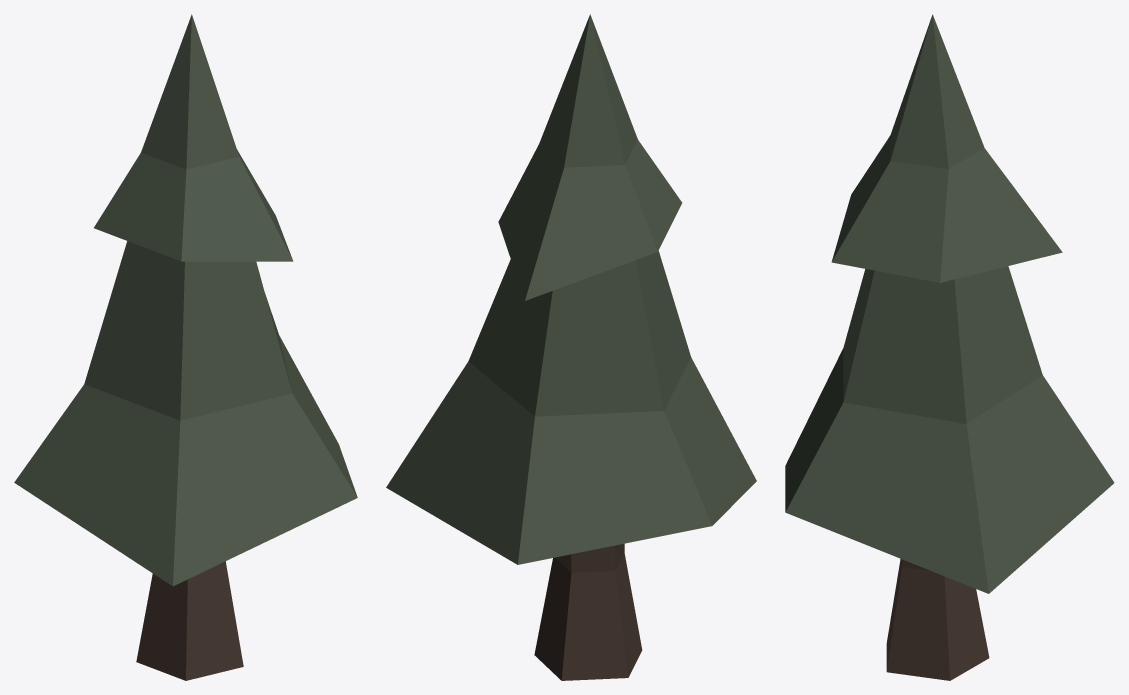
Rendered from Darkgreen_conetree2.fbx.
The picture shows the model from 3 angles, left to right: view 1: azimuth 30°, elevation 25°; view 2: azimuth 150°, elevation 25°; view 3: azimuth 270°, elevation 25°; orthographic projection.
Parts seen in each view (by area): view 1: Darkgreen_conetree2; view 2: Darkgreen_conetree2; view 3: Darkgreen_conetree2.
Boxes of the visible parts, x1=… form: Darkgreen_conetree2: x1=14, y1=14, x2=357, y2=680; Darkgreen_conetree2: x1=386, y1=14, x2=756, y2=680; Darkgreen_conetree2: x1=785, y1=14, x2=1114, y2=680.
Size of the model in its own units: 447 by 845 by 392.
